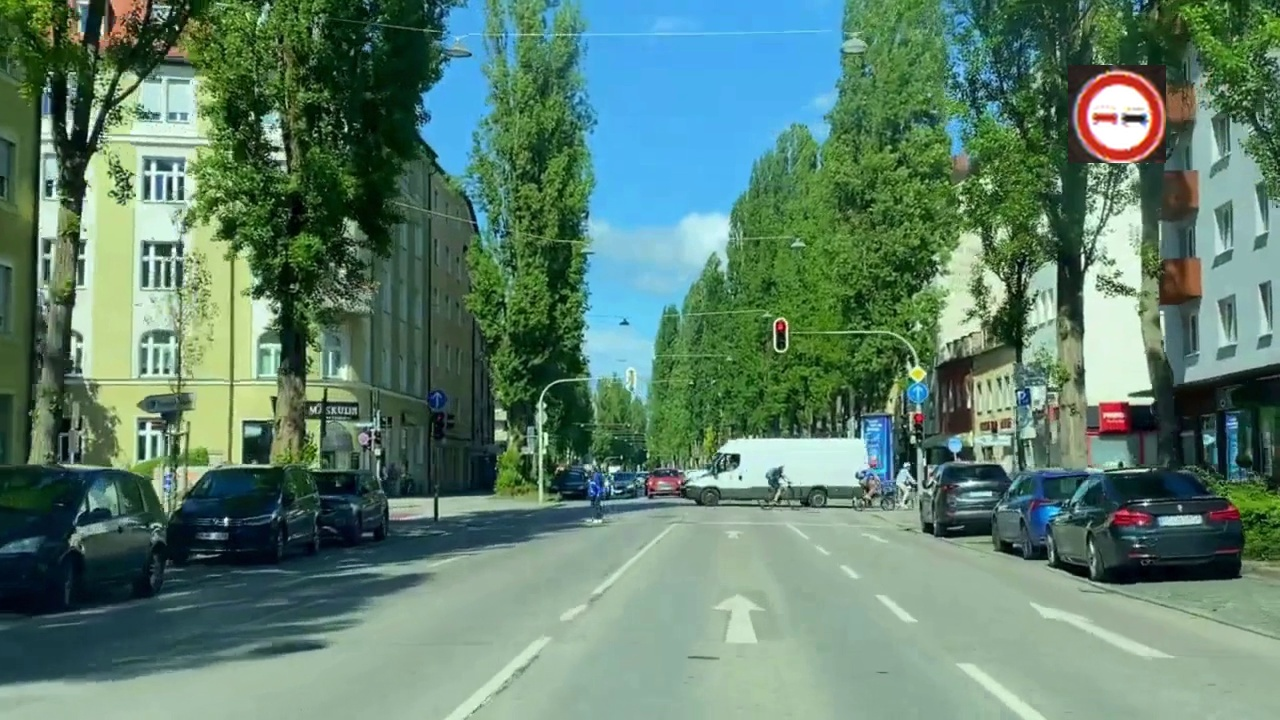No passing: (1068, 65, 1166, 163)
